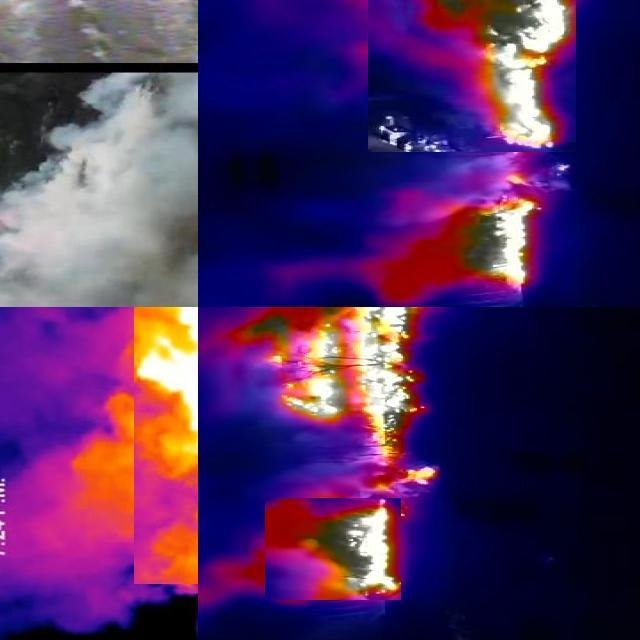fire: (252, 308, 442, 494), (369, 1, 577, 152), (395, 168, 556, 300), (135, 308, 199, 584), (266, 498, 402, 600)
